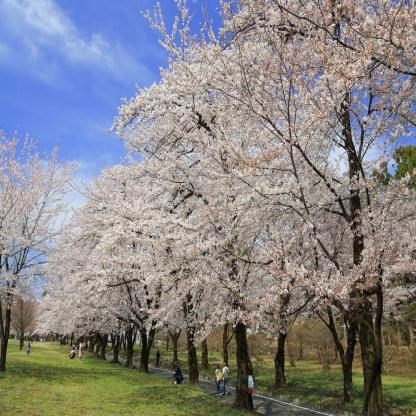Someiyoshino: (35, 2, 415, 324), (2, 128, 84, 312)
